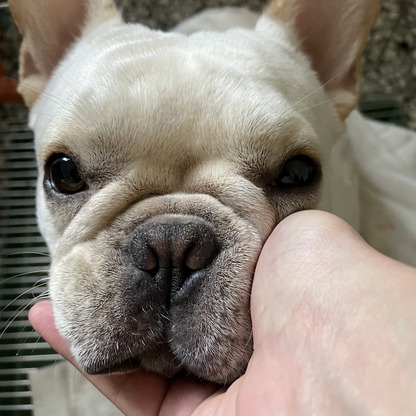bulldog: (7, 3, 385, 388)
